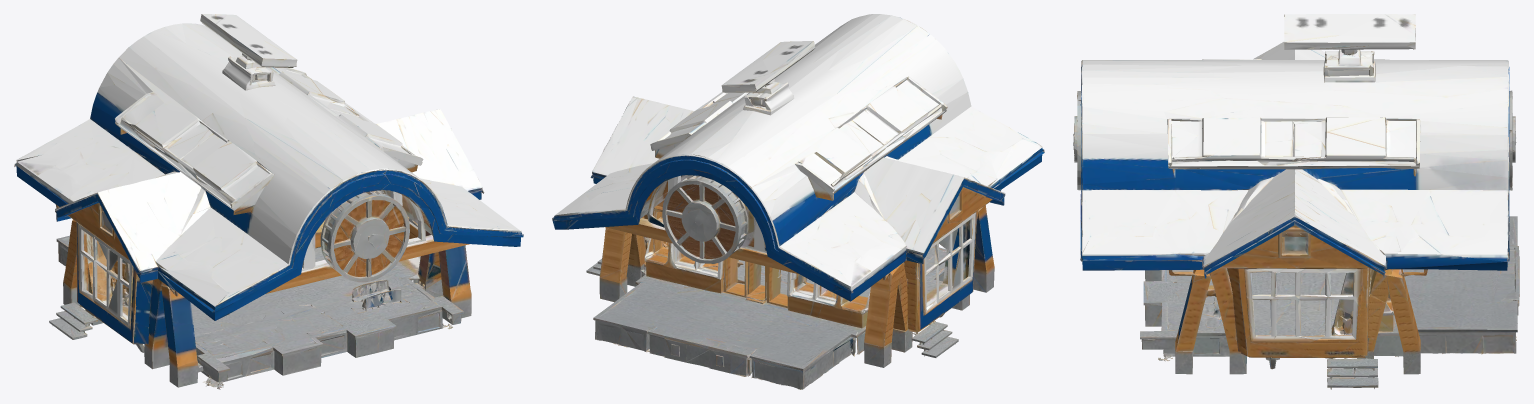
The model's file is chair_terminal.glb.
3 renders of one model, left to right at view 1: azimuth 30°, elevation 25°; view 2: azimuth 150°, elevation 25°; view 3: azimuth 270°, elevation 25°, orthographic. The views are drawn at different scales.
Bounding box in the file's own units: 1.9 × 1.3 × 1.89.
Materials: 1 (1 with a texture image).
